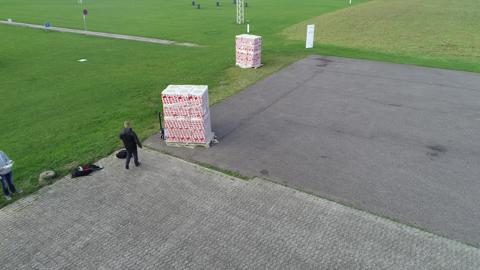RockwoolPallet: (160, 83, 215, 142)
